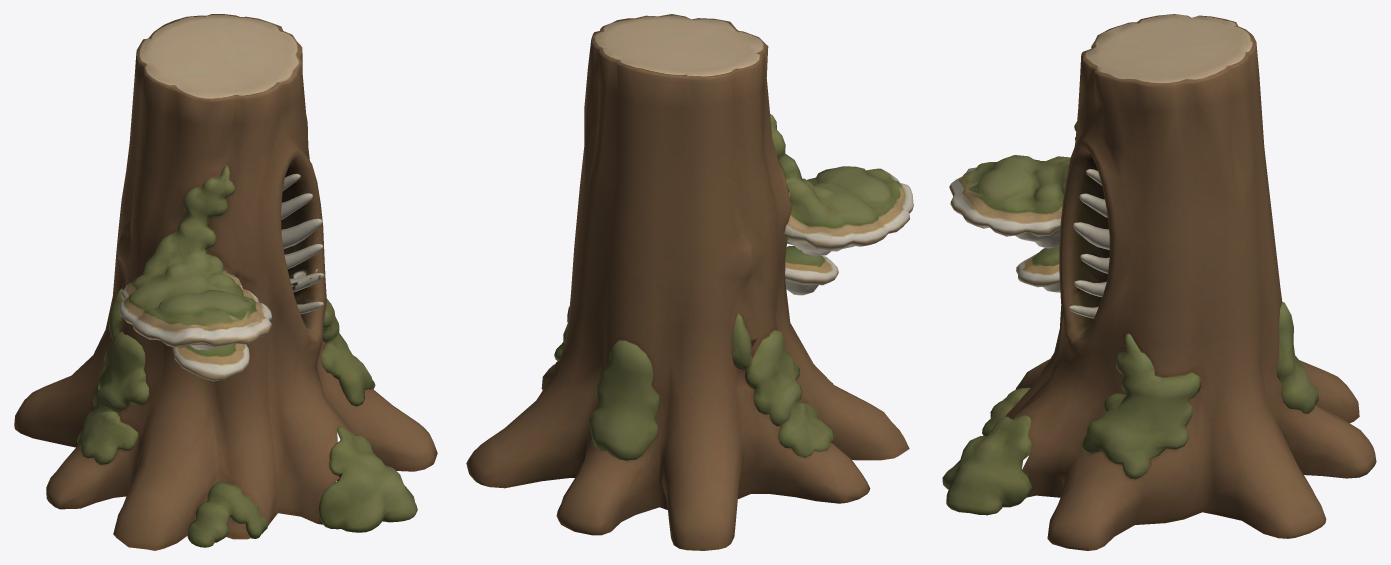
Rendered from forest-gill-trunk.glb.
The picture shows the model from 3 angles, left to right: view 1: azimuth 30°, elevation 25°; view 2: azimuth 150°, elevation 25°; view 3: azimuth 270°, elevation 25°; orthographic projection. The views are drawn at different scales.
Visible parts, largest first — view 1: Model; view 2: Model; view 3: Model.
Boxes of the visible parts, box(x1,y1,x2,y2) form: Model: box(14, 14, 437, 550); Model: box(466, 14, 913, 550); Model: box(942, 14, 1376, 550).
Bounding box in the file's own units: 0.8856 × 0.9995 × 0.925.
Materials: 1 (1 with a texture image).
